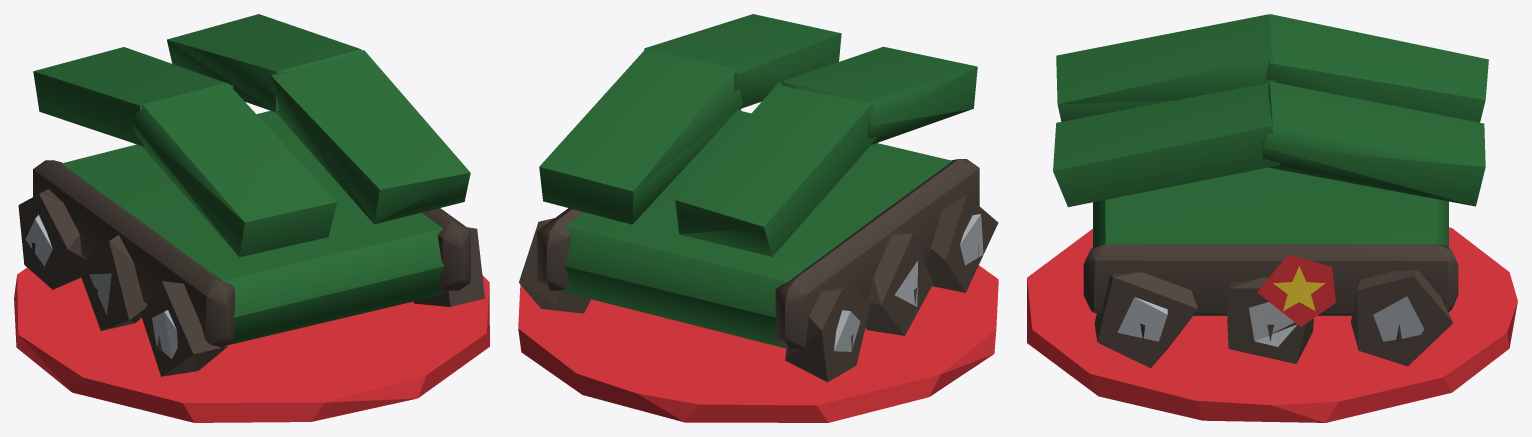
Rendered from vietnam_engineer_lod1.glb.
3 renders of one model, left to right at view 1: azimuth 30°, elevation 25°; view 2: azimuth 150°, elevation 25°; view 3: azimuth 270°, elevation 25°, orthographic. The views are drawn at different scales.
Visible parts, largest first — view 1: body_hull, base_pedestal; view 2: body_hull, base_pedestal; view 3: body_hull, base_pedestal.
Part boxes in pixels (x1,y1,x2,y2): body_hull: (18,14,484,376); base_pedestal: (14,267,489,422); body_hull: (519,14,998,382); base_pedestal: (518,265,998,422); body_hull: (1053,14,1488,368); base_pedestal: (1027,227,1517,422).
Bounding box in the file's own units: 0.7751 × 0.4367 × 0.7751.
